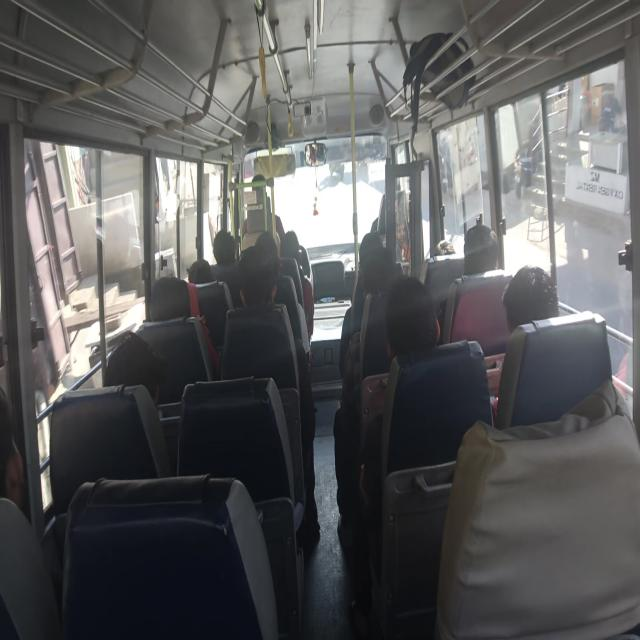person: (0, 388, 51, 567), (395, 281, 449, 368), (99, 346, 163, 395), (506, 259, 549, 325), (468, 222, 520, 274), (368, 238, 412, 296), (185, 258, 232, 310), (153, 276, 192, 334), (246, 244, 275, 313), (354, 220, 390, 268), (437, 228, 469, 272), (202, 225, 238, 264), (277, 225, 304, 264), (258, 227, 284, 260)
